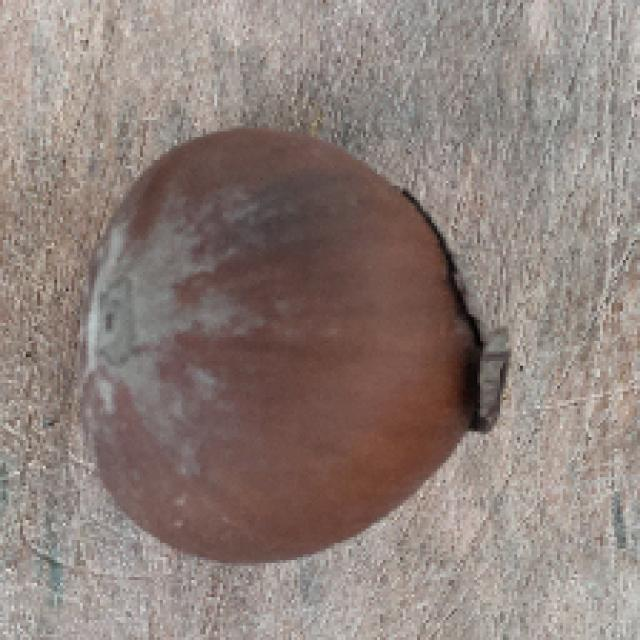damagedHazelnut: (81, 126, 516, 564)
